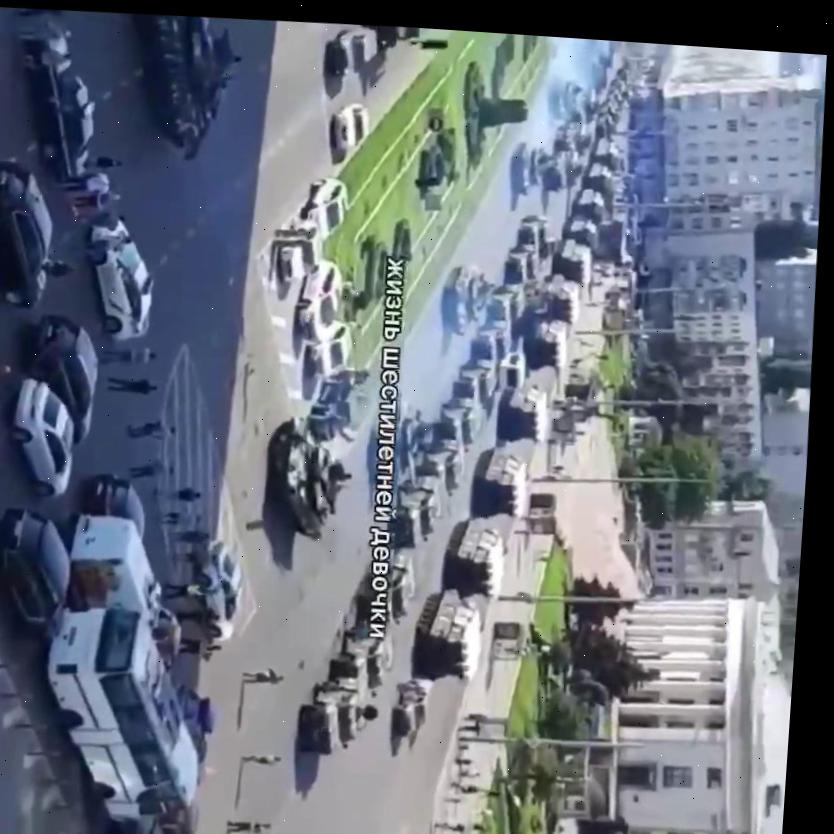armored_car: (296, 674, 380, 760), (345, 551, 423, 632), (329, 624, 403, 692), (376, 480, 440, 554), (526, 145, 582, 215), (415, 435, 467, 505), (435, 394, 489, 455), (450, 356, 497, 415), (469, 319, 513, 368), (502, 243, 541, 289), (489, 282, 526, 329), (515, 213, 551, 254)
car: (16, 30, 102, 181), (22, 313, 101, 447), (0, 507, 74, 641), (83, 214, 159, 343), (3, 377, 77, 497), (0, 159, 57, 311), (188, 540, 245, 643), (84, 471, 148, 544), (292, 257, 344, 342), (297, 176, 350, 242), (324, 24, 378, 79), (277, 219, 322, 285), (302, 320, 352, 378), (330, 102, 370, 152)
person: (69, 226, 132, 255), (57, 169, 114, 197), (99, 343, 156, 369), (162, 580, 219, 605), (16, 19, 72, 44), (72, 209, 125, 234), (124, 418, 177, 443), (103, 374, 157, 397), (178, 635, 222, 663), (127, 457, 174, 482), (170, 604, 222, 626), (151, 482, 201, 504), (20, 47, 72, 68), (169, 548, 216, 570), (71, 190, 120, 211), (241, 665, 284, 687), (155, 509, 201, 528), (164, 527, 209, 545), (225, 818, 272, 834), (83, 155, 122, 171), (238, 752, 281, 766)
rszo: (411, 587, 485, 685), (442, 515, 507, 604), (470, 446, 528, 523), (534, 266, 586, 330), (555, 216, 602, 286), (545, 233, 600, 292), (495, 383, 548, 444), (523, 315, 567, 372)
tank: (116, 11, 263, 162), (261, 412, 356, 544), (439, 265, 496, 338), (499, 131, 550, 205), (542, 68, 584, 120)
